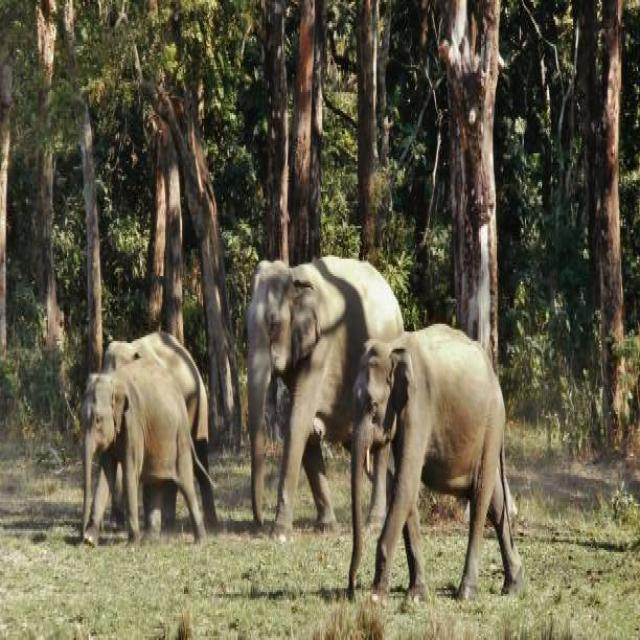Elephant: (342, 323, 523, 640), (246, 256, 407, 544), (74, 361, 224, 559)
